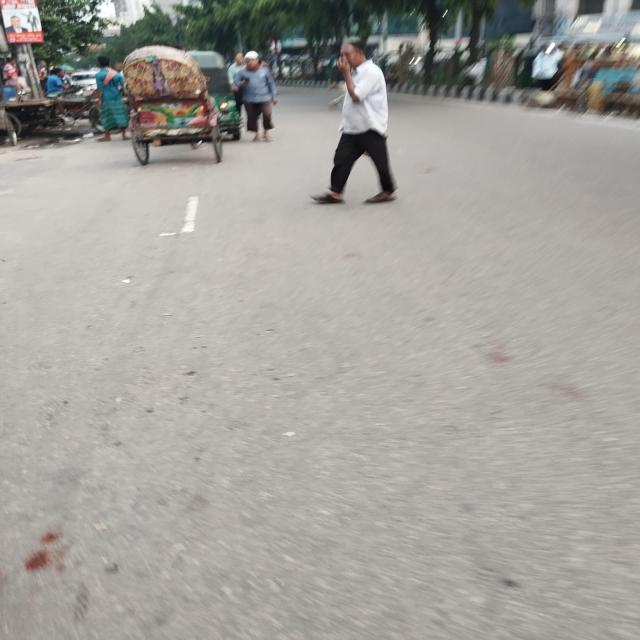person: (312, 42, 396, 204), (235, 51, 278, 142)
